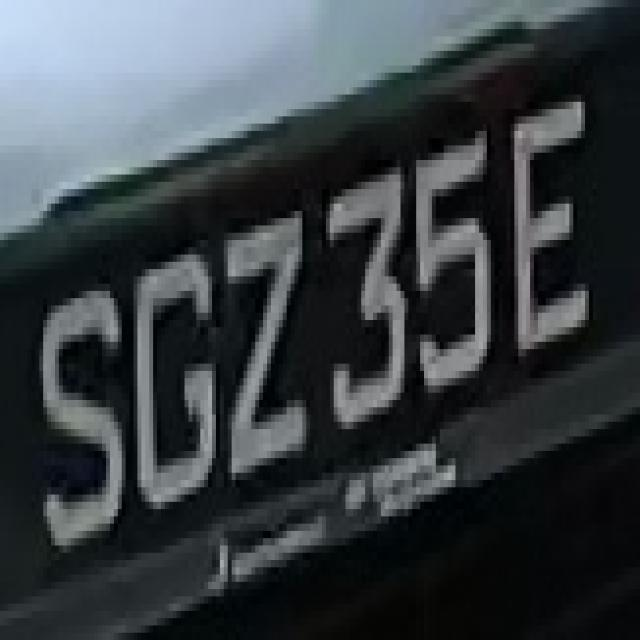3: (311, 168, 408, 436)
5: (392, 138, 507, 400)
E: (499, 102, 581, 378)
G: (118, 233, 224, 538)
S: (32, 262, 130, 582)
Z: (212, 197, 322, 488)
